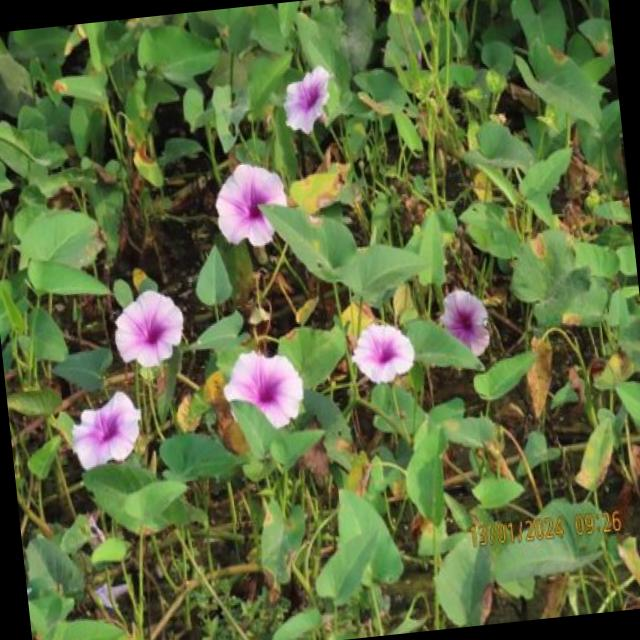ipomoea: (215, 340, 311, 439), (206, 154, 294, 256), (105, 282, 192, 378), (62, 384, 148, 478), (343, 314, 421, 392), (432, 281, 497, 365), (274, 60, 339, 143)
